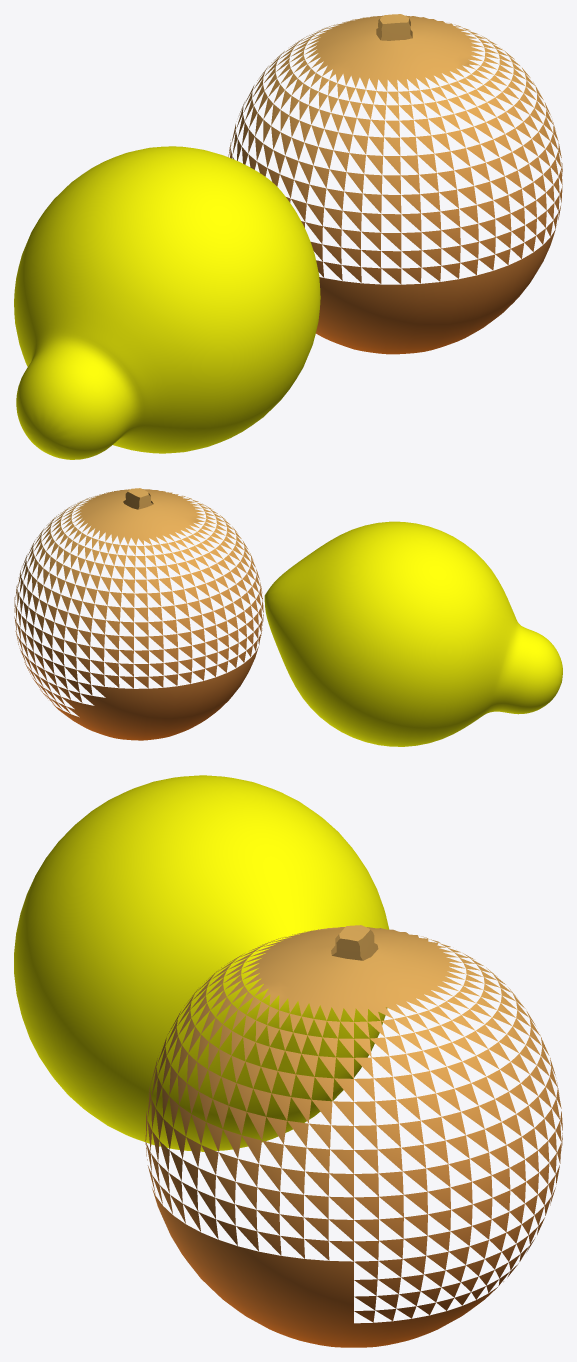
The model's file is orange29.glb.
3 renders of one model, top to bottom at view 1: azimuth 30°, elevation 25°; view 2: azimuth 150°, elevation 25°; view 3: azimuth 270°, elevation 25°, orthographic. The views are drawn at different scales.
Bounding box in the file's own units: 0.6284 × 0.3159 × 0.3923.
